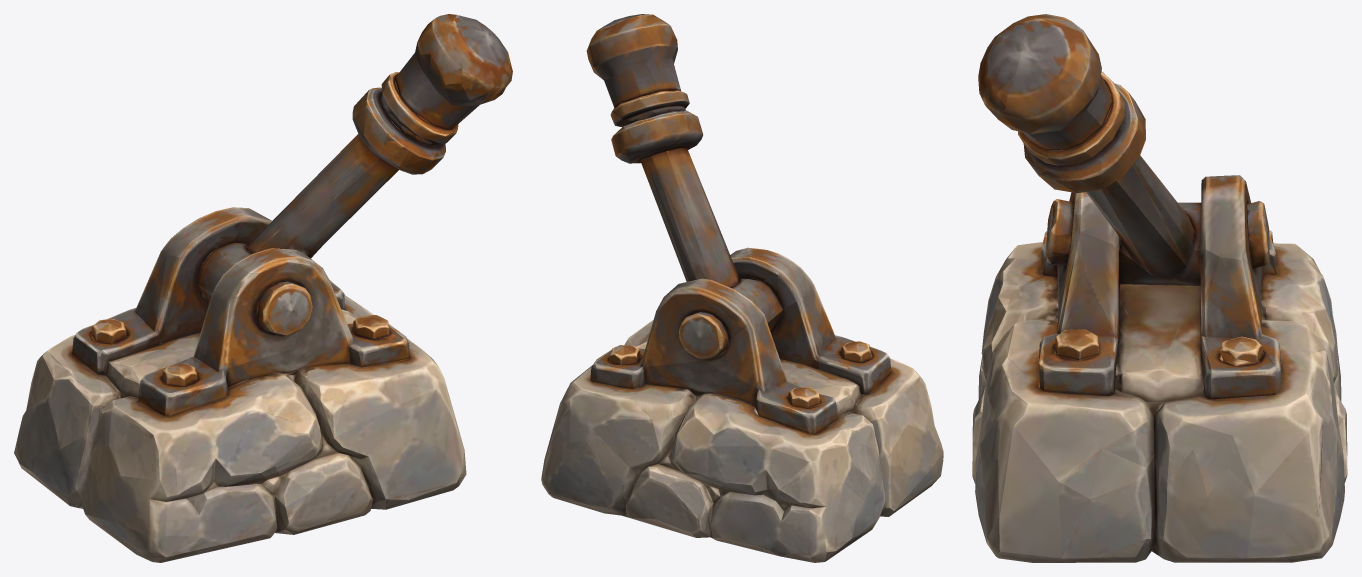
Rendered from floor-lever.glb.
3 views of the same model, side by side, from view 1: azimuth 30°, elevation 25°; view 2: azimuth 150°, elevation 25°; view 3: azimuth 270°, elevation 25° (orthographic). The views are drawn at different scales.
Visible parts, largest first — view 1: output_unwrapped; view 2: output_unwrapped; view 3: output_unwrapped.
Part boxes in pixels (x1=…): output_unwrapped: x1=14, y1=14, x2=512, y2=562; output_unwrapped: x1=541, y1=14, x2=943, y2=562; output_unwrapped: x1=972, y1=14, x2=1347, y2=562.
Size of the model in its own units: 1.68 by 1.9 by 1.18.
1 material, 1 textured.
